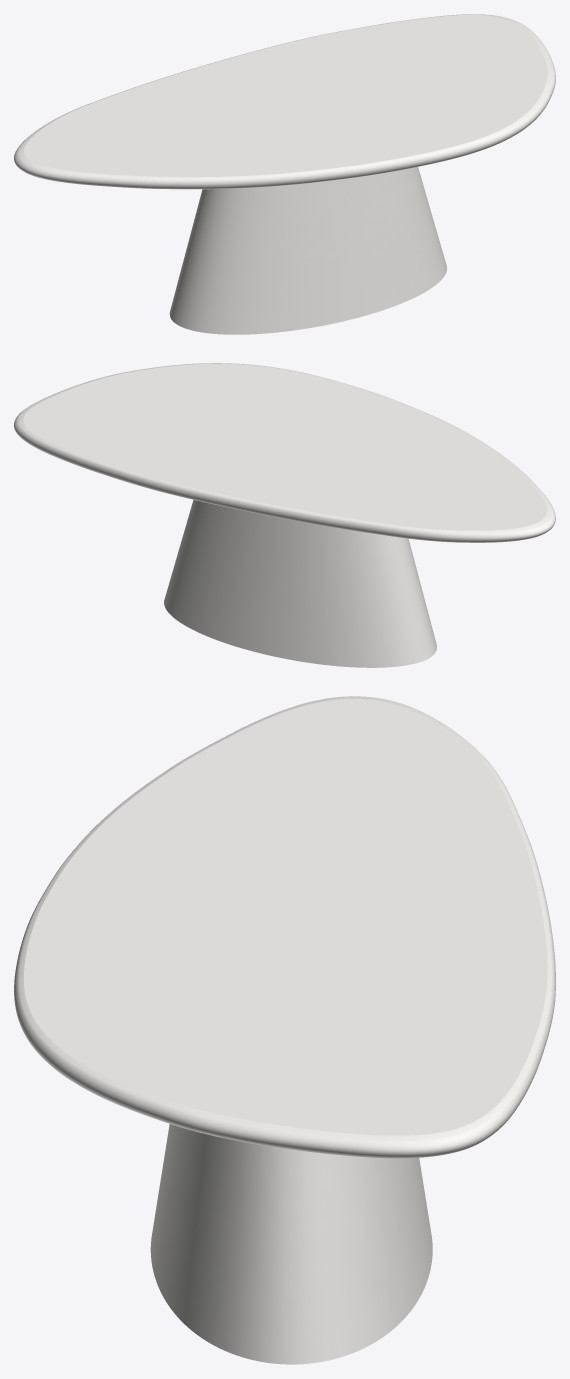
File: purewhite_pebbletop_round_eqone.glb
3 renders of one model, top to bottom at view 1: azimuth 30°, elevation 25°; view 2: azimuth 150°, elevation 25°; view 3: azimuth 270°, elevation 25°, orthographic. The views are drawn at different scales.
Parts seen in each view (by area): view 1: round_pebbletop, eqone; view 2: round_pebbletop, eqone; view 3: round_pebbletop, eqone.
Boxes of the visible parts, x1=… form: round_pebbletop: x1=14, y1=14, x2=555, y2=189; eqone: x1=169, y1=167, x2=447, y2=334; round_pebbletop: x1=14, y1=363, x2=555, y2=542; eqone: x1=164, y1=500, x2=436, y2=667; round_pebbletop: x1=14, y1=696, x2=555, y2=1158; eqone: x1=150, y1=1124, x2=432, y2=1364.
Bounding box in the file's own units: 7.5 × 2.51 × 3.8.
Materials: 1 (1 with a texture image).
